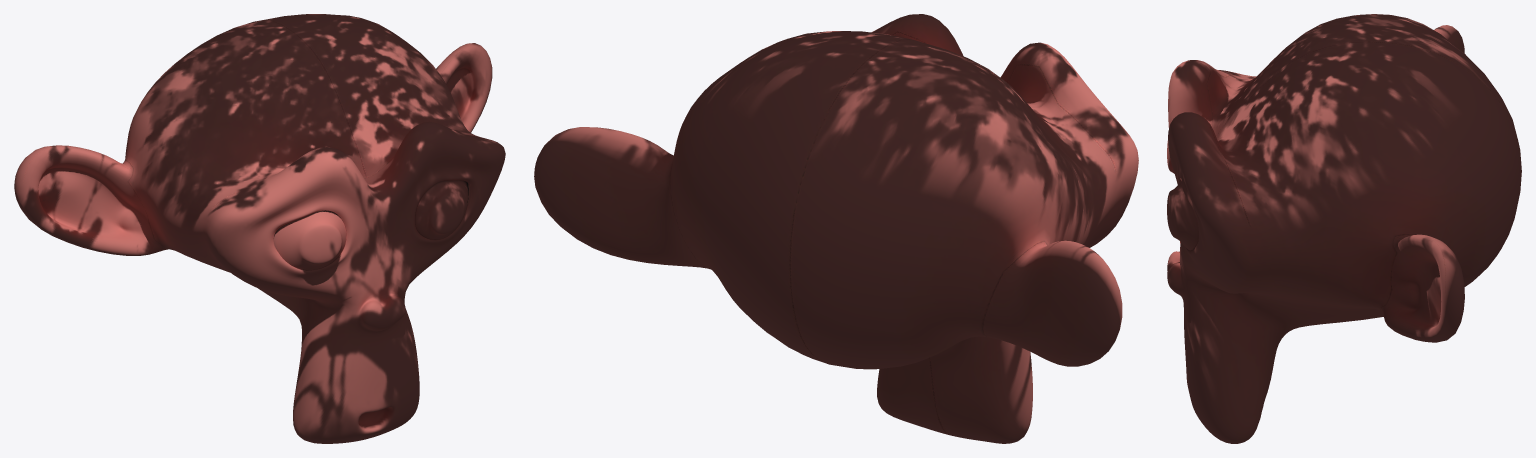
Rendered from Suzane1.glb.
The picture shows the model from 3 angles, left to right: view 1: azimuth 30°, elevation 25°; view 2: azimuth 150°, elevation 25°; view 3: azimuth 270°, elevation 25°; orthographic projection. The views are drawn at different scales.
Parts seen in each view (by area): view 1: Suzanne; view 2: Suzanne; view 3: Suzanne.
Boxes of the visible parts, bbox=[...] form: Suzanne: bbox=[14, 14, 505, 443]; Suzanne: bbox=[534, 14, 1138, 443]; Suzanne: bbox=[1167, 14, 1521, 443].
Bounding box in the file's own units: 2.66 × 1.91 × 1.6.
1 material, 1 textured.
